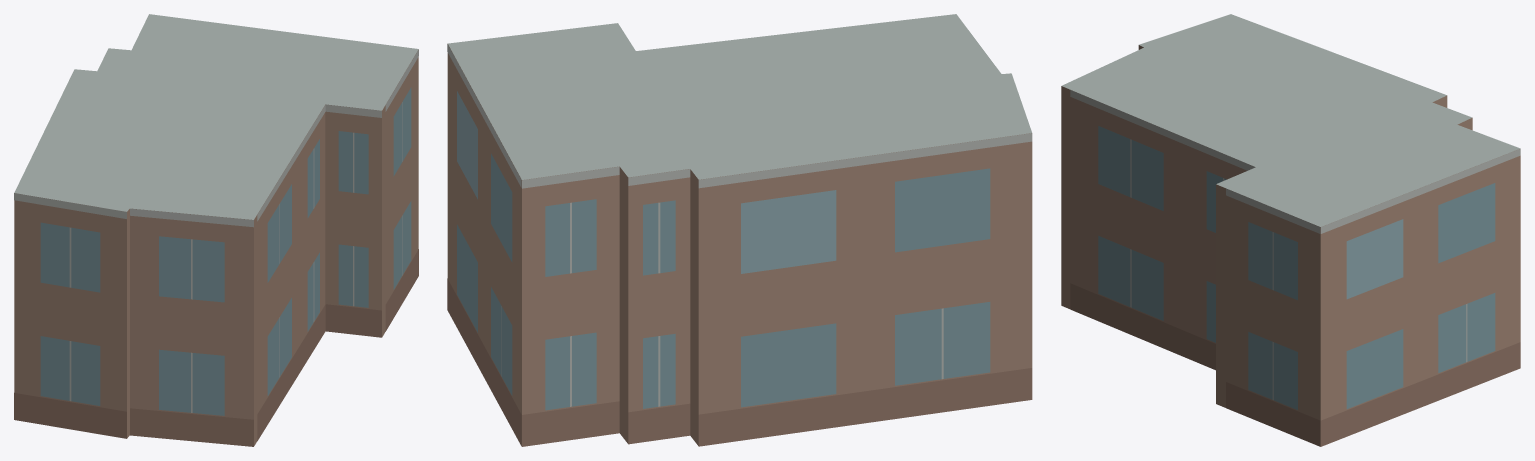
File: survey-upis-32985217.glb
The picture shows the model from 3 angles, left to right: view 1: azimuth 30°, elevation 25°; view 2: azimuth 150°, elevation 25°; view 3: azimuth 270°, elevation 25°; orthographic projection. The views are drawn at different scales.
Parts seen in each view (by area): view 1: survey-upis-32985217.tmp; view 2: survey-upis-32985217.tmp; view 3: survey-upis-32985217.tmp.
Boxes of the visible parts, left/top/right/bottom form: survey-upis-32985217.tmp: left=14, top=14, right=418, bottom=446; survey-upis-32985217.tmp: left=447, top=14, right=1032, bottom=446; survey-upis-32985217.tmp: left=1061, top=14, right=1520, bottom=446.
Size of the model in its own units: 15.81 by 7.6 by 14.41.
